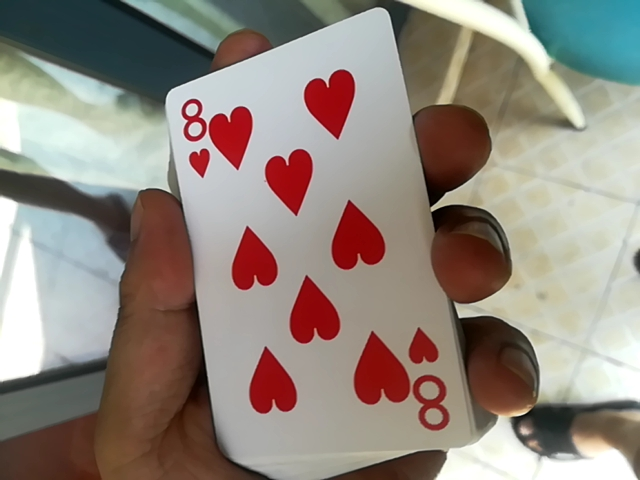hx 8: (170, 19, 457, 467)
